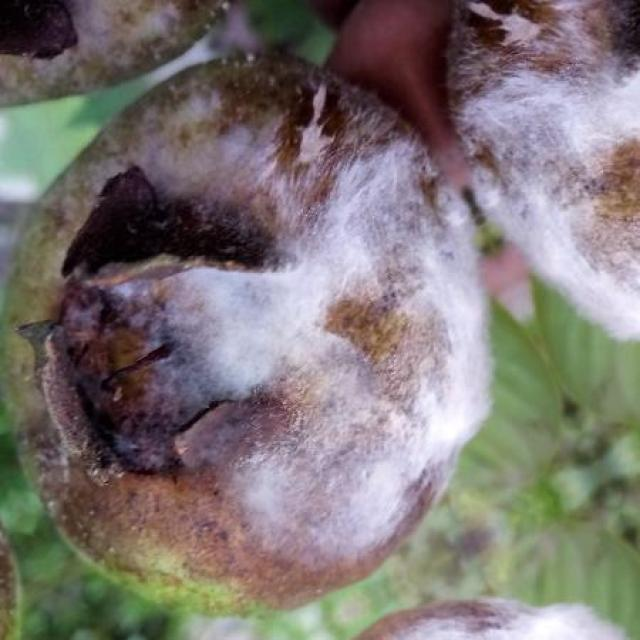Phytopthora: (10, 58, 489, 604), (450, 2, 640, 337), (0, 0, 226, 106)
